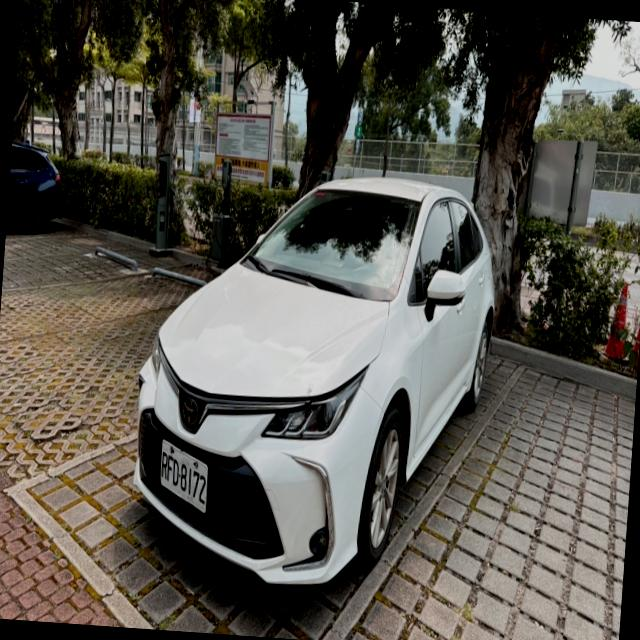license plate: (159, 441, 207, 511)
wheel: (356, 405, 403, 568)
